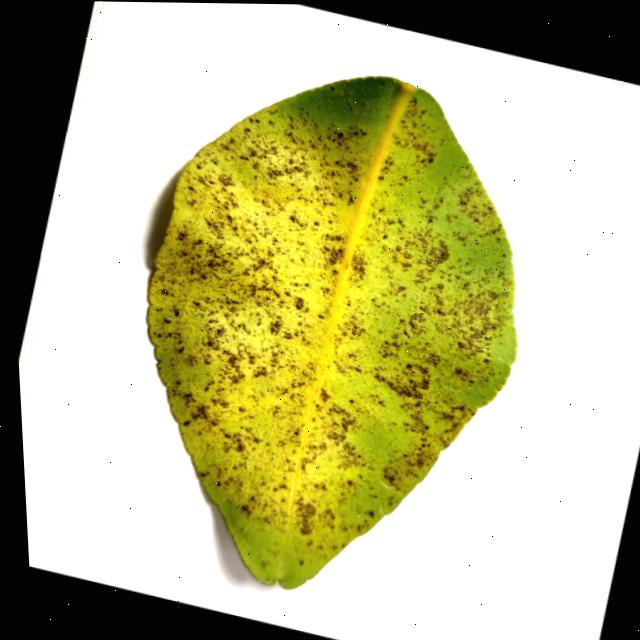melanose: (147, 75, 515, 587)
